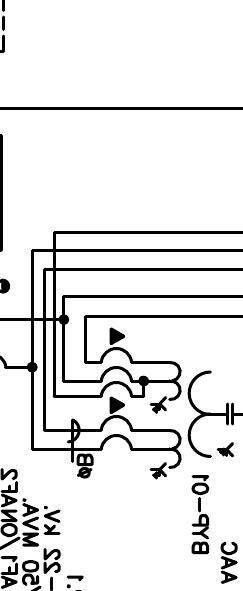115_cvt_3p: (149, 360, 234, 480)
